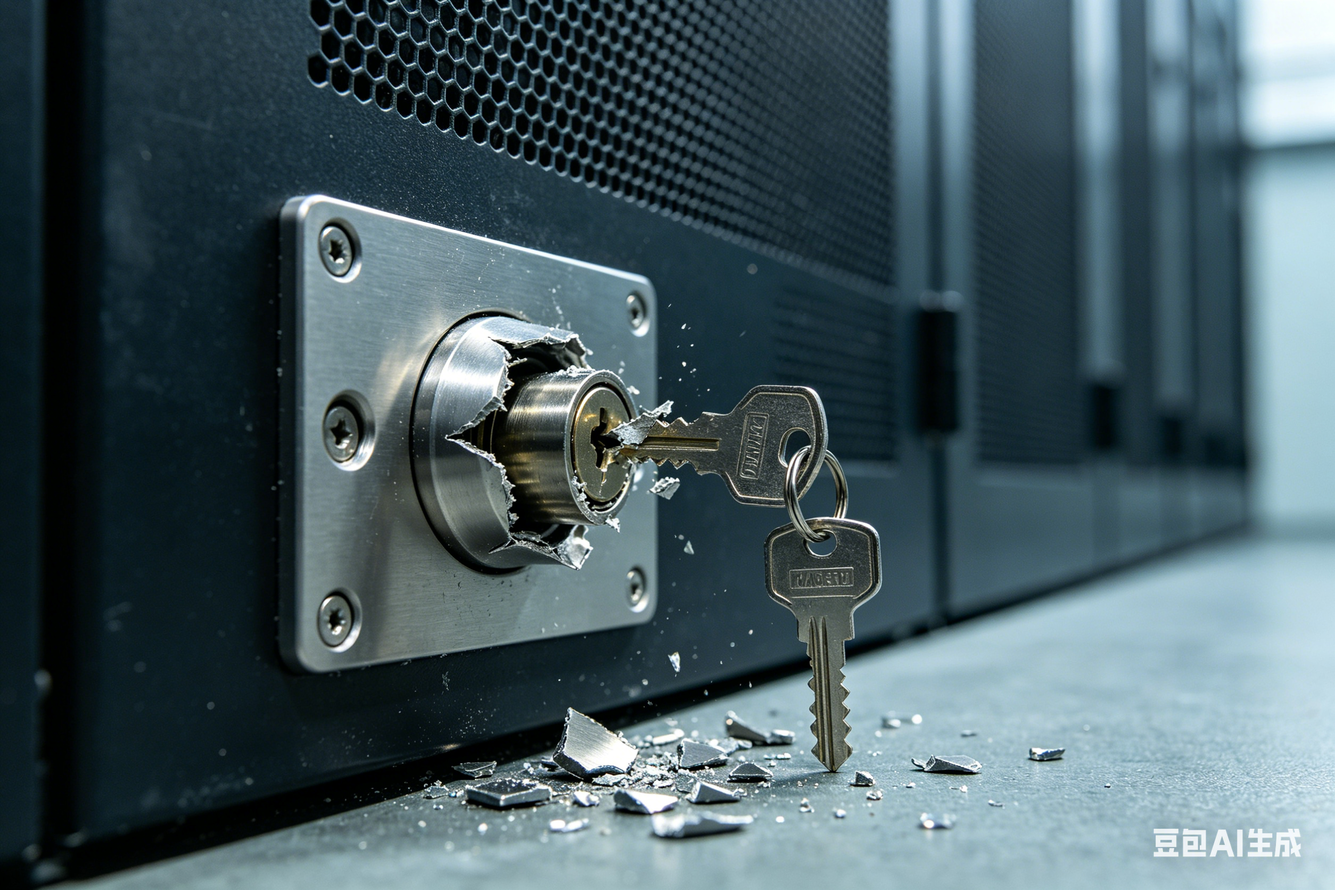BadLock: (431, 321, 687, 534)
